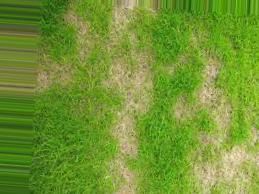patch: (116, 67, 143, 94), (113, 122, 136, 144), (115, 157, 138, 178), (221, 146, 244, 166), (198, 89, 216, 108), (199, 160, 219, 177), (120, 100, 138, 111), (207, 66, 217, 84), (216, 108, 227, 122), (121, 147, 134, 155)
